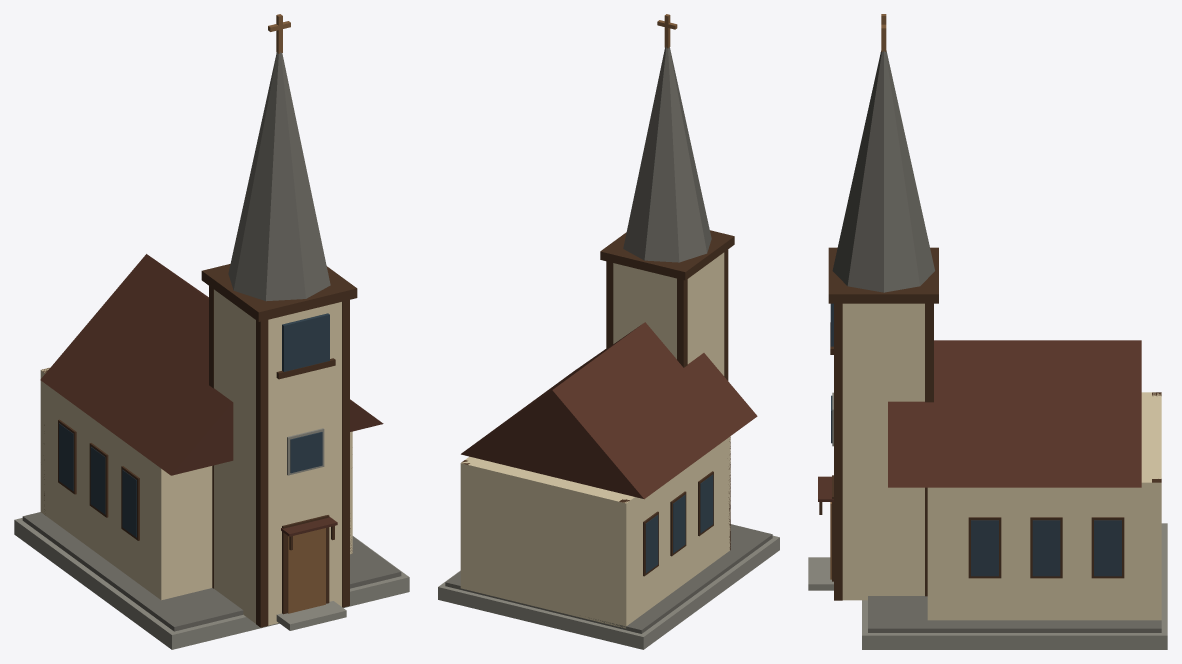
Rendered from church.glb.
The picture shows the model from 3 angles, left to right: view 1: azimuth 30°, elevation 25°; view 2: azimuth 150°, elevation 25°; view 3: azimuth 270°, elevation 25°; orthographic projection. The views are drawn at different scales.
Parts seen in each view (by area): view 1: church; view 2: church; view 3: church.
Part boxes in pixels (bbox=[...]): church: bbox=[14, 14, 409, 649]; church: bbox=[438, 14, 779, 649]; church: bbox=[808, 14, 1167, 649].
Bounding box in the file's own units: 6.7 × 16.1 × 9.05.
